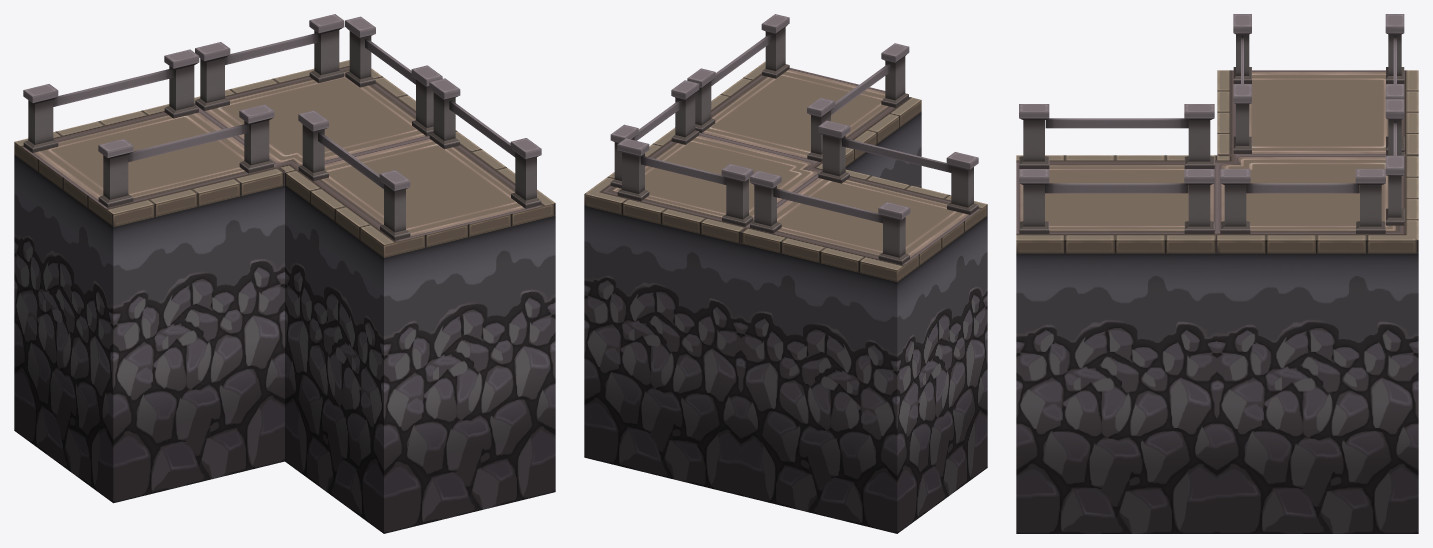
Rendered from Embankment_01.FBX.
3 renders of one model, left to right at view 1: azimuth 30°, elevation 25°; view 2: azimuth 150°, elevation 25°; view 3: azimuth 270°, elevation 25°, orthographic. The views are drawn at different scales.
Visible parts, largest first — view 1: Embankment_01; view 2: Embankment_01; view 3: Embankment_01.
Boxes of the visible parts, x1=… form: Embankment_01: x1=14, y1=14, x2=555, y2=533; Embankment_01: x1=584, y1=14, x2=987, y2=533; Embankment_01: x1=1016, y1=14, x2=1418, y2=533.
Bounding box in the file's own units: 164 × 158 × 164.
